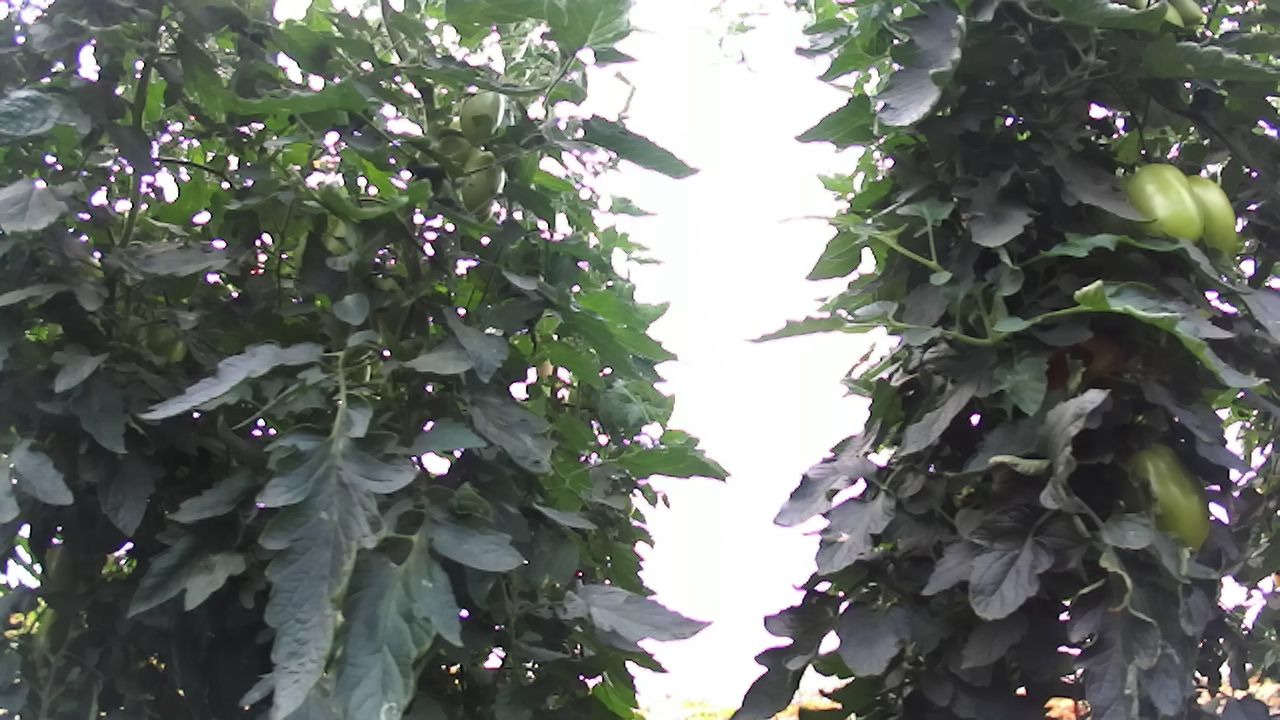tomato: (1115, 438, 1216, 557), (1118, 149, 1214, 256), (1181, 164, 1248, 259)
